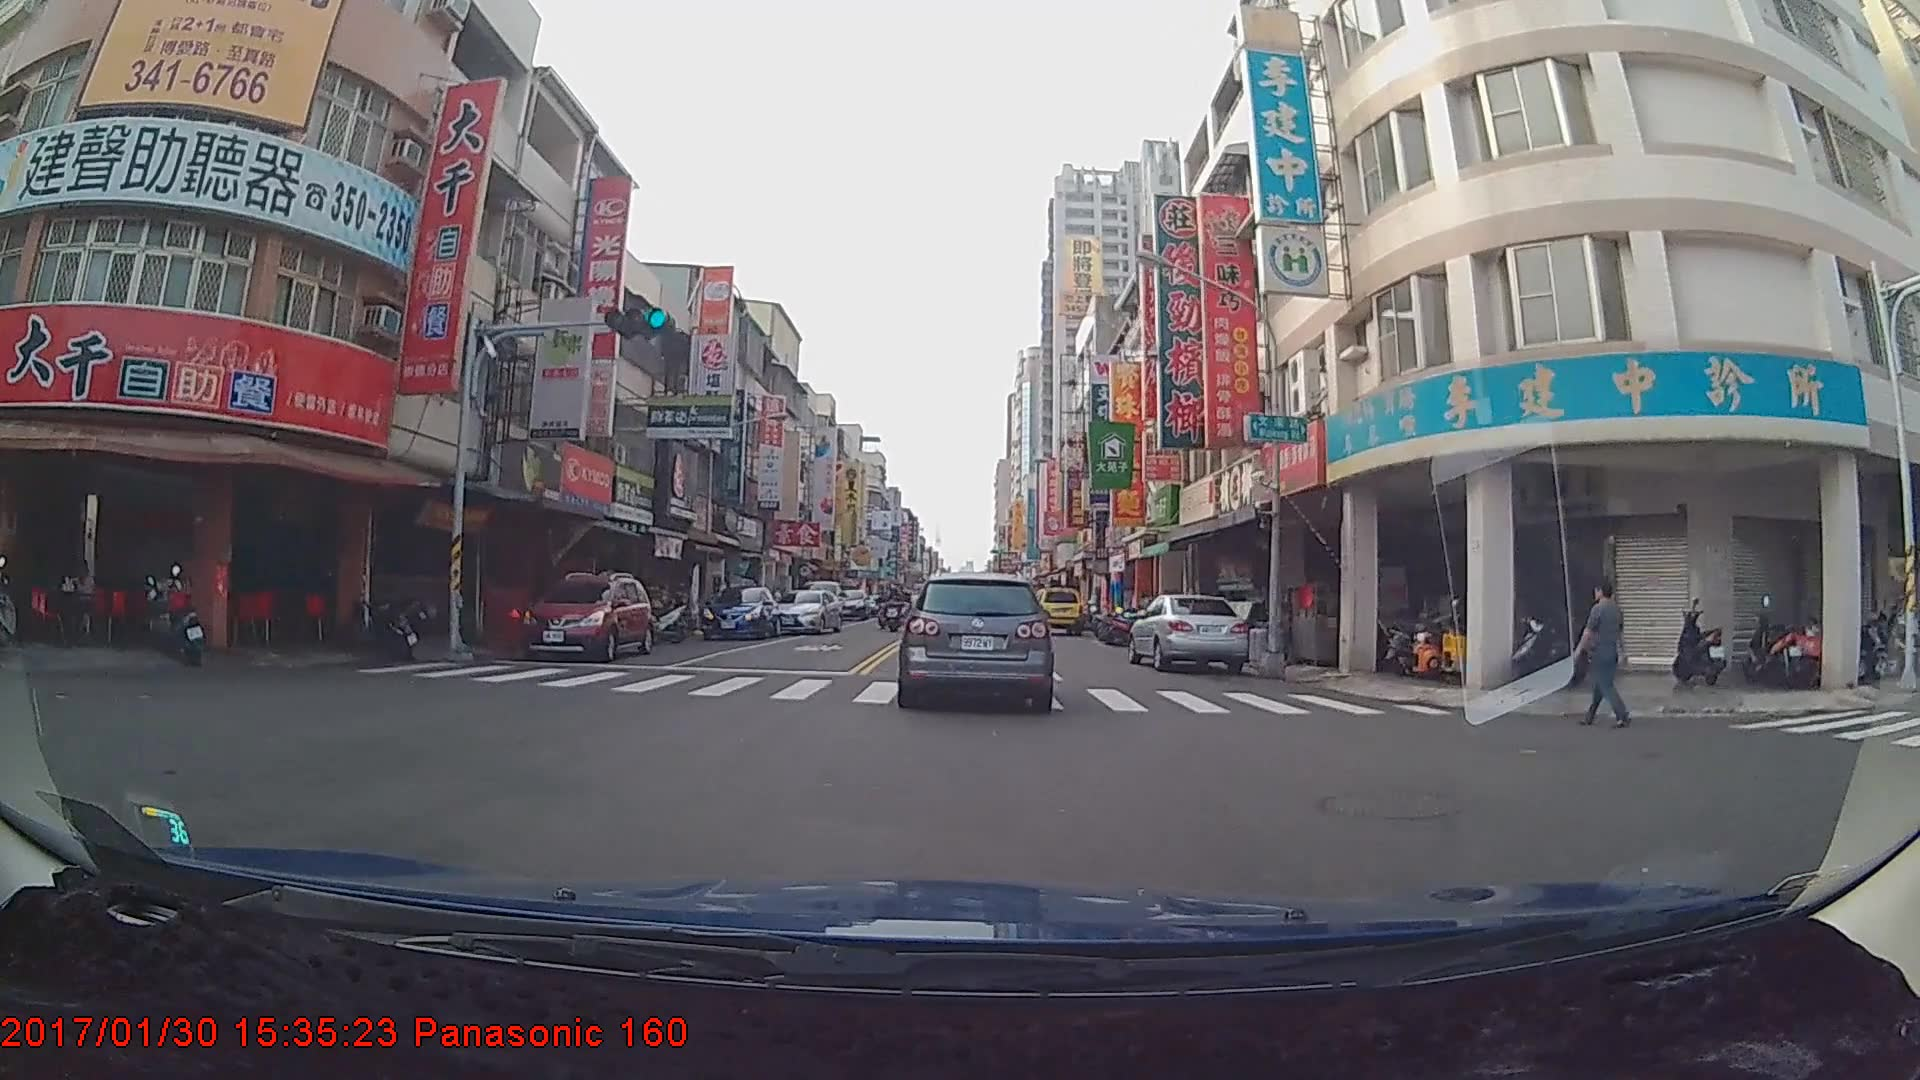pedestrian: (1585, 569, 1633, 732)
vehicle: (900, 572, 1052, 707), (519, 568, 652, 660), (1128, 588, 1253, 672), (700, 583, 780, 638), (772, 587, 842, 636), (1031, 584, 1084, 635)
